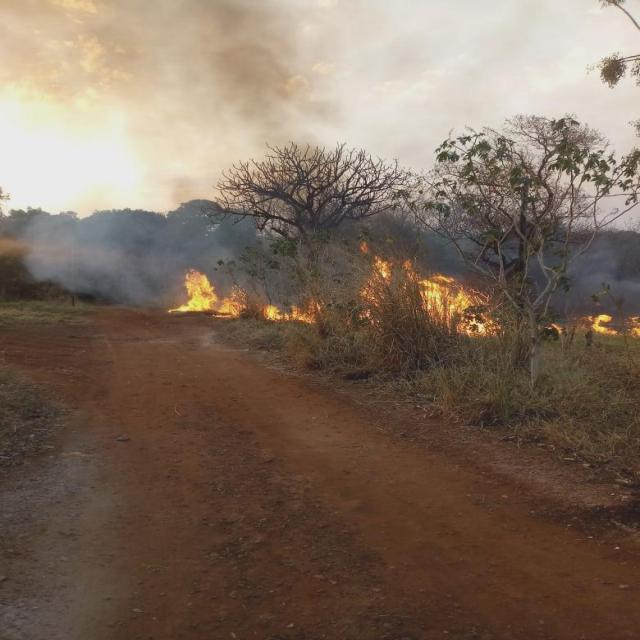Fire: (360, 253, 501, 335), (180, 270, 246, 320), (262, 299, 325, 323), (580, 314, 616, 336)
